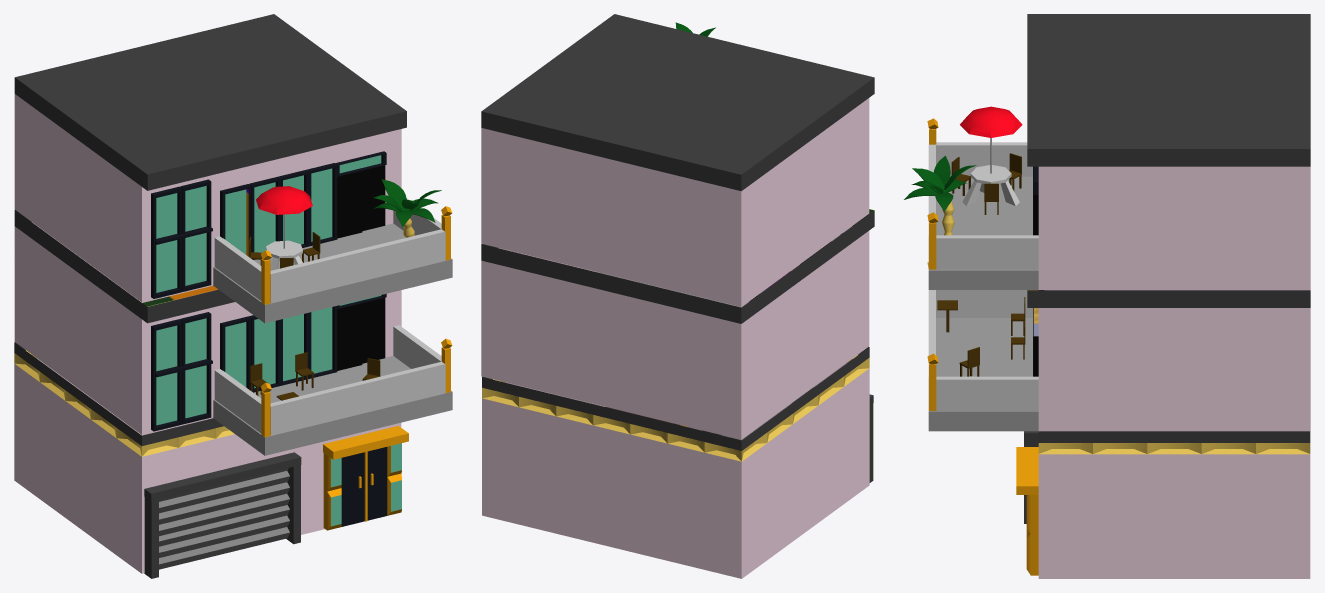
The model's file is PredioCentroBrancoLOD0.fbx.
The picture shows the model from 3 angles, left to right: view 1: azimuth 30°, elevation 25°; view 2: azimuth 150°, elevation 25°; view 3: azimuth 270°, elevation 25°; orthographic projection. The views are drawn at different scales.
Parts seen in each view (by area): view 1: PredioFundacaoLOD0, Andar2, Andar1, Garagem; view 2: PredioFundacaoLOD0, Garagem; view 3: PredioFundacaoLOD0, Andar2, Andar1.
Boxes of the visible parts, <box> form: PredioFundacaoLOD0: <box>14,14,408,573</box>; Andar2: <box>213,179,452,323</box>; Andar1: <box>213,325,452,455</box>; Garagem: <box>144,452,301,578</box>; PredioFundacaoLOD0: <box>481,14,874,578</box>; Garagem: <box>702,387,873,482</box>; PredioFundacaoLOD0: <box>927,14,1310,578</box>; Andar2: <box>904,106,1038,289</box>; Andar1: <box>927,290,1046,431</box>.
Size of the model in its own units: 782 by 1161 by 994.
1 material, 1 textured.
